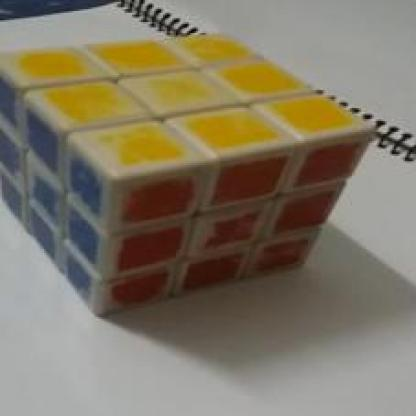cube: (0, 34, 375, 312)
